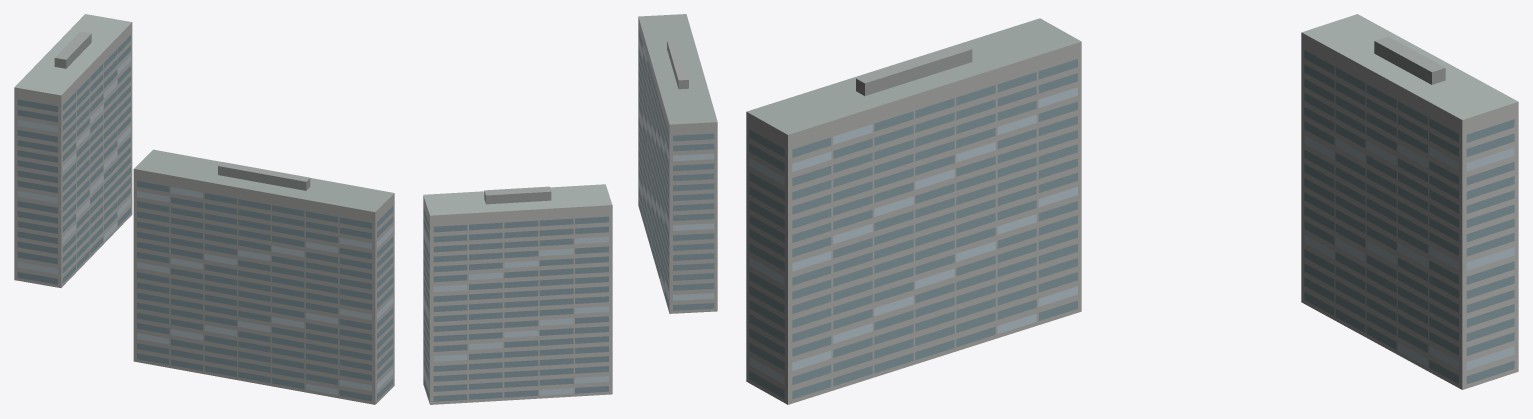
File: apt-a15210206.glb
3 views of the same model, side by side, from view 1: azimuth 30°, elevation 25°; view 2: azimuth 150°, elevation 25°; view 3: azimuth 270°, elevation 25° (orthographic). The views are drawn at different scales.
Visible parts, largest first — view 1: apt-a15210206; view 2: apt-a15210206; view 3: apt-a15210206.
Boxes of the visible parts, bbox=[...] form: apt-a15210206: bbox=[14, 14, 394, 404]; apt-a15210206: bbox=[423, 14, 717, 404]; apt-a15210206: bbox=[746, 14, 1518, 404].
Size of the model in its own units: 46.81 by 51 by 126.
